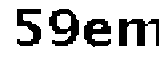5: (10, 2, 43, 50)
9: (47, 9, 82, 50)
e: (83, 15, 113, 49)
m: (116, 11, 160, 52)
